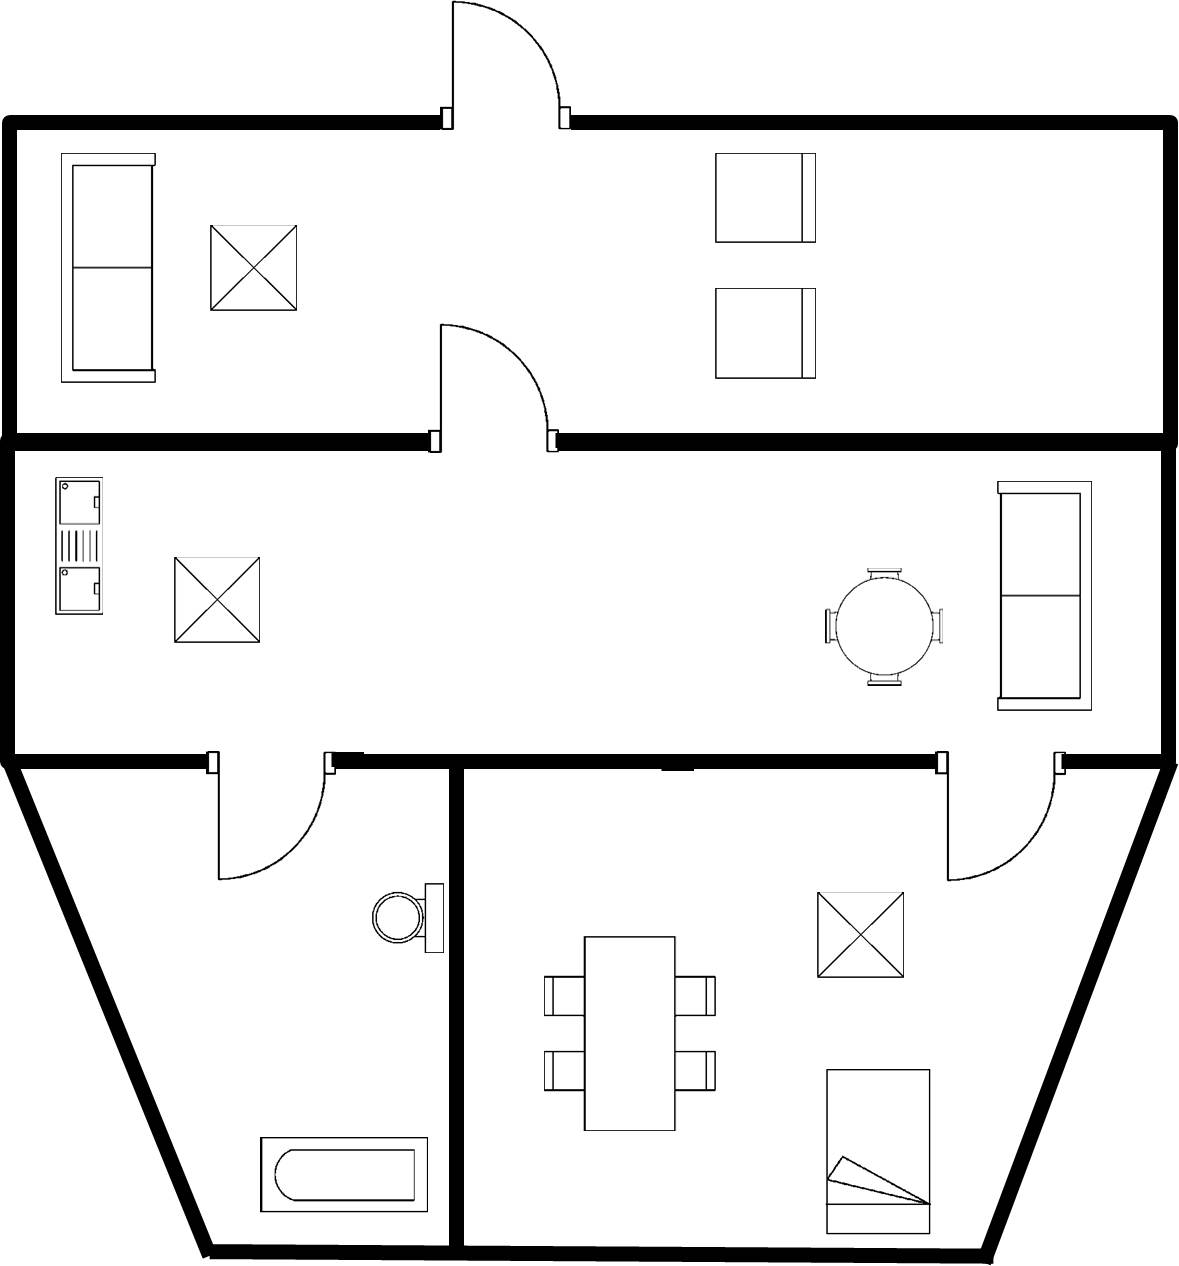bed: (812, 1058, 943, 1242)
coffee_table: (200, 211, 308, 322), (806, 883, 915, 990), (163, 551, 274, 655)
dining_table: (536, 926, 727, 1143)
large_sink: (359, 872, 447, 967)
large_sofa: (985, 474, 1105, 725), (50, 144, 165, 395)
round_table: (815, 557, 955, 695)
small_sofa: (705, 276, 826, 390), (698, 142, 822, 249)
tub: (248, 1128, 438, 1222)
twin_sink: (45, 468, 108, 628)
